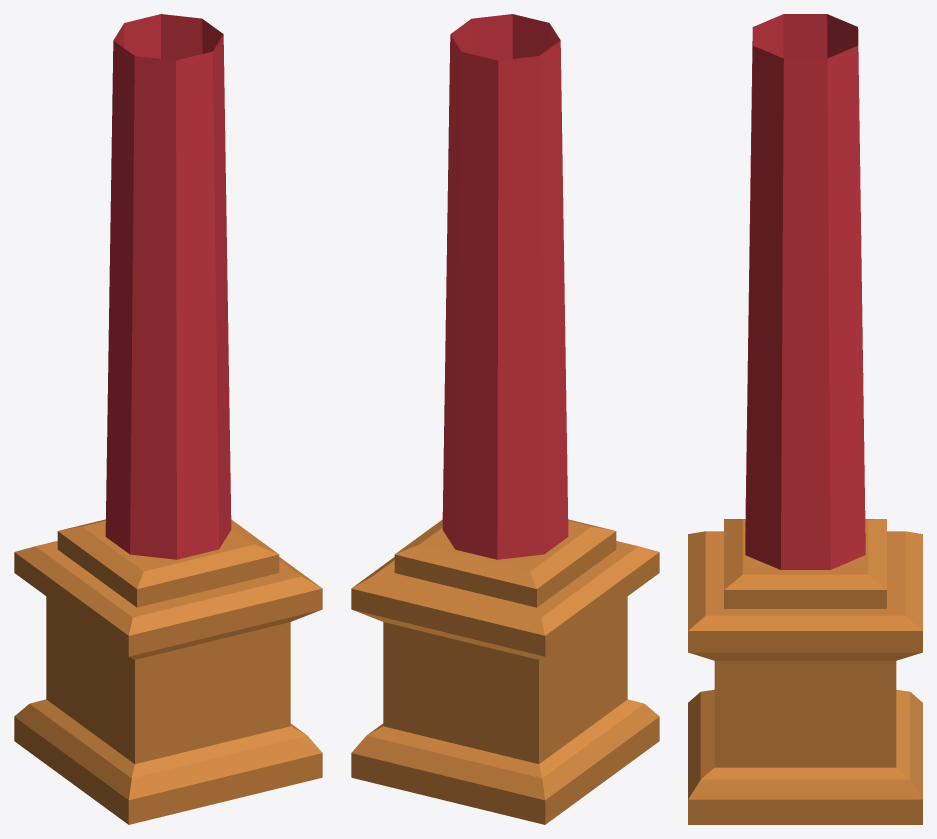
Rendered from Säule.FBX.
The picture shows the model from 3 angles, left to right: view 1: azimuth 30°, elevation 25°; view 2: azimuth 150°, elevation 25°; view 3: azimuth 270°, elevation 25°; orthographic projection. The views are drawn at different scales.
Visible parts, largest first — view 1: Box002; view 2: Box002; view 3: Box002.
Part boxes in pixels (left/top/right/bottom): Box002: left=14, top=14, right=322, bottom=824; Box002: left=351, top=14, right=659, bottom=824; Box002: left=688, top=14, right=922, bottom=824.
Bounding box in the file's own units: 21.55 × 76.68 × 22.05.
